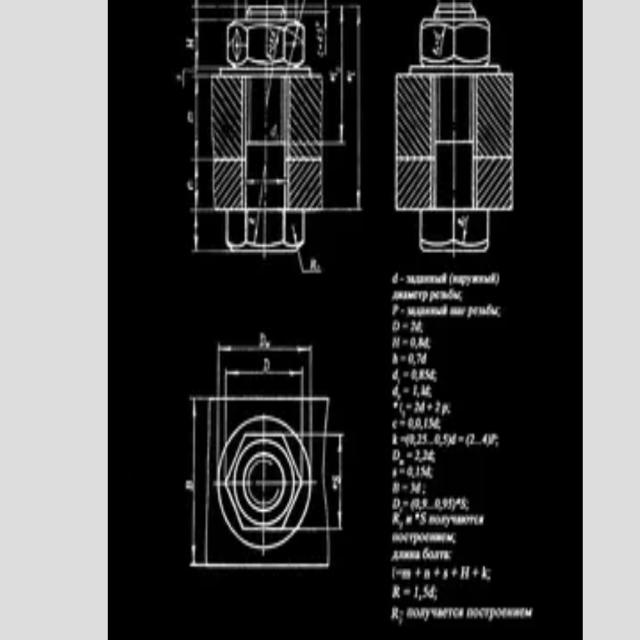marking_line: (325, 4, 364, 214), (216, 339, 317, 398), (190, 4, 213, 256), (325, 6, 348, 147), (188, 394, 206, 570), (224, 362, 306, 397), (187, 74, 211, 162), (191, 2, 218, 72), (330, 430, 346, 532), (191, 156, 213, 214), (188, 207, 213, 254), (298, 252, 323, 277)
